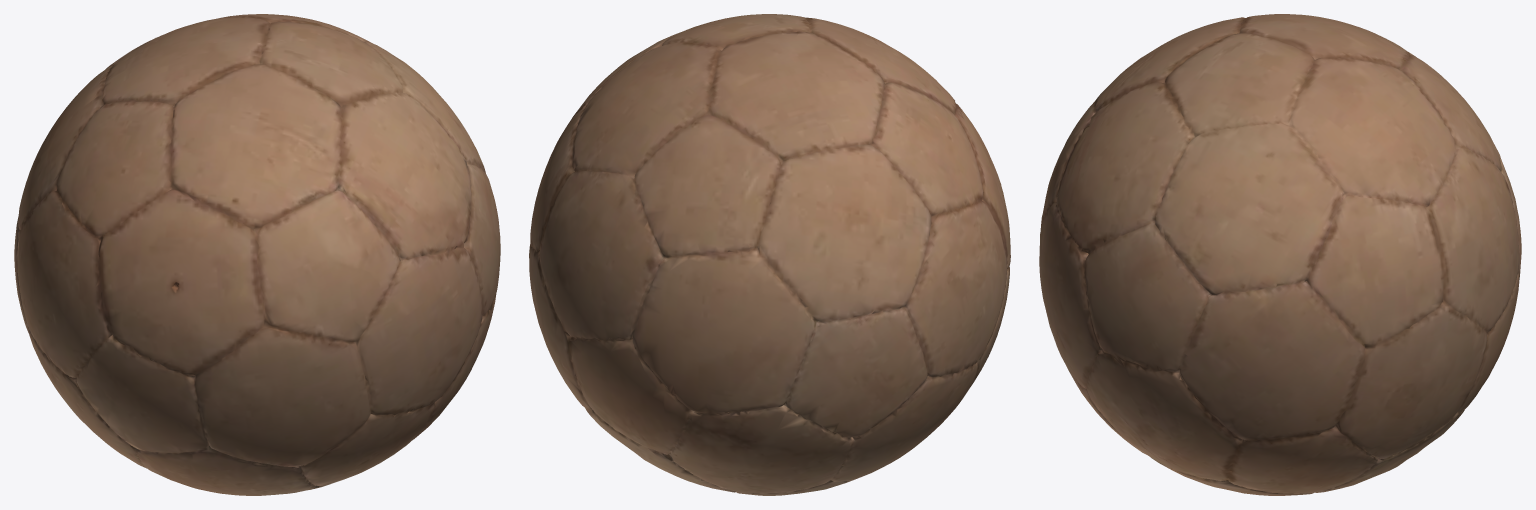
File: football.glb
3 views of the same model, side by side, from view 1: azimuth 30°, elevation 25°; view 2: azimuth 150°, elevation 25°; view 3: azimuth 270°, elevation 25° (orthographic).
Parts seen in each view (by area): view 1: dirty_football; view 2: dirty_football; view 3: dirty_football.
Boxes of the visible parts, box(x1,y1,x2,y2) form: dirty_football: box(14, 14, 500, 495); dirty_football: box(529, 14, 1010, 495); dirty_football: box(1039, 14, 1521, 495).
Bounding box in the file's own units: 0.2211 × 0.22 × 0.2199.
1 material, 1 textured.
